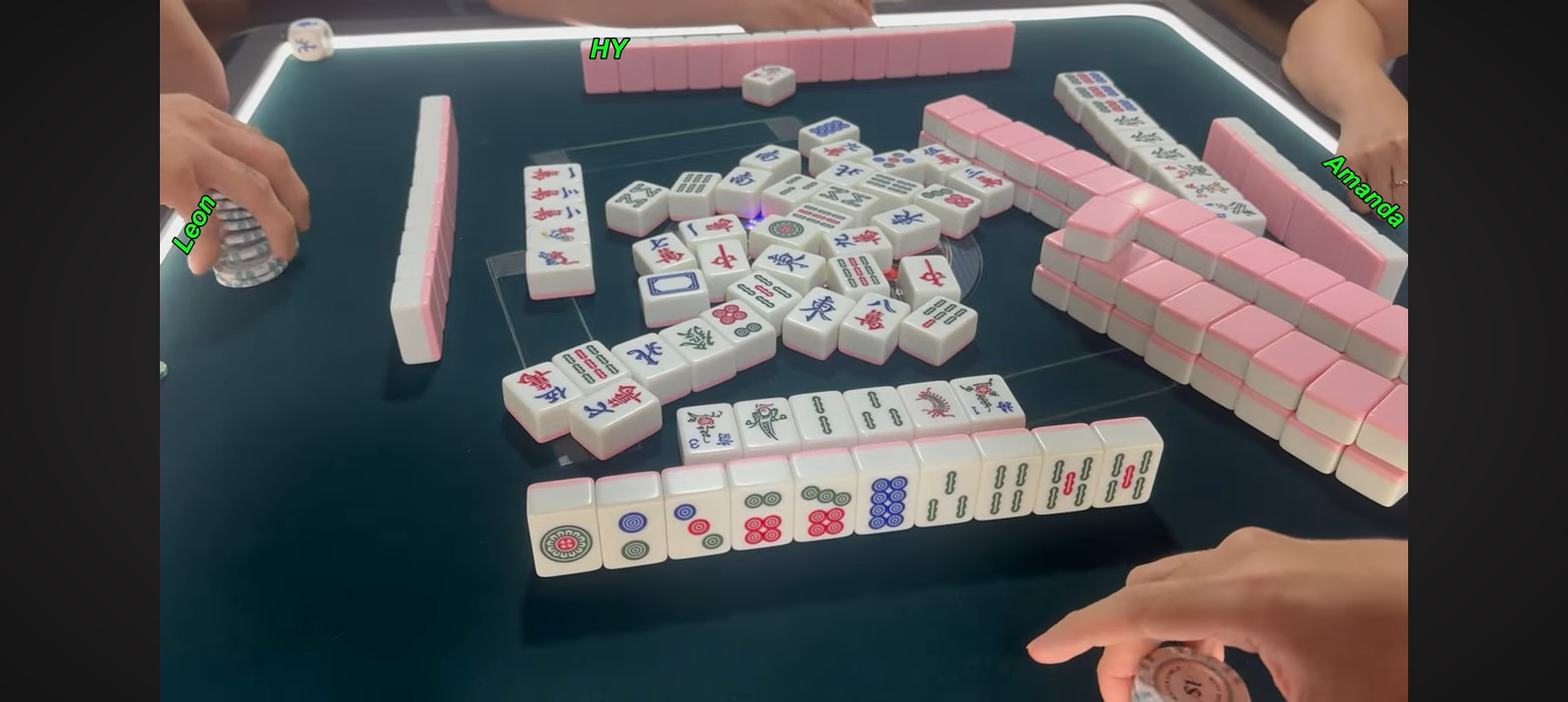TILE: (527, 512, 602, 574), (667, 494, 732, 559), (597, 504, 666, 565), (733, 484, 798, 548), (919, 464, 982, 527), (1040, 450, 1103, 513), (981, 456, 1042, 520), (796, 480, 858, 542), (858, 473, 919, 534), (1102, 448, 1163, 506), (956, 375, 1026, 419), (846, 386, 911, 433), (678, 403, 740, 452), (736, 399, 798, 446), (792, 393, 853, 439), (906, 379, 959, 427)
